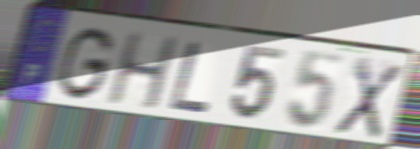5: (228, 42, 290, 124), (286, 50, 346, 134)
G: (55, 24, 117, 104)
H: (103, 30, 181, 112)
L: (167, 38, 214, 116)
X: (330, 54, 406, 142)
